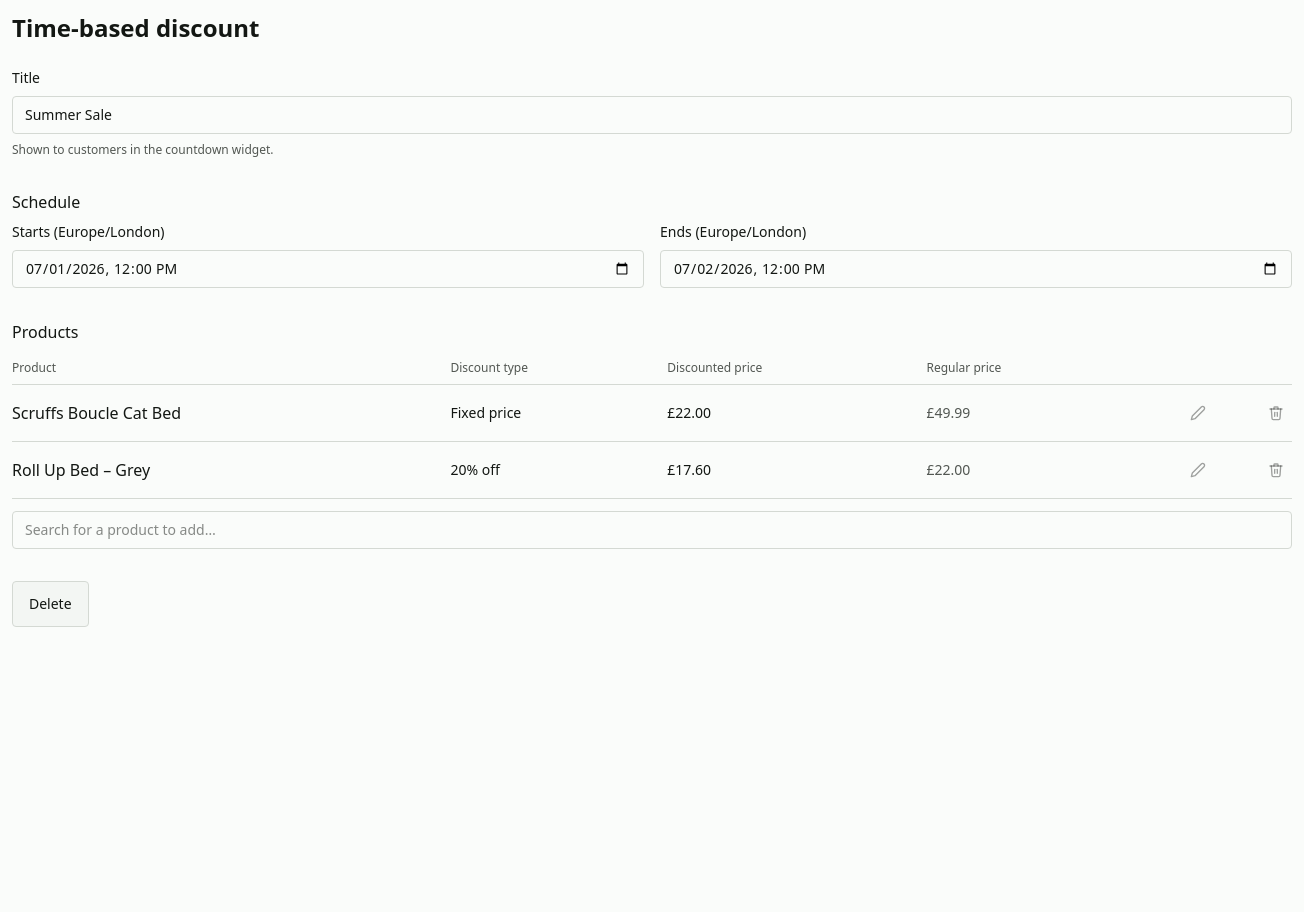
TimeDiscountEditor — title › does not save an empty title and says one is required
Clear the field labelled "Title" at (652,115), box left=12, top=96, right=1292, bottom=134
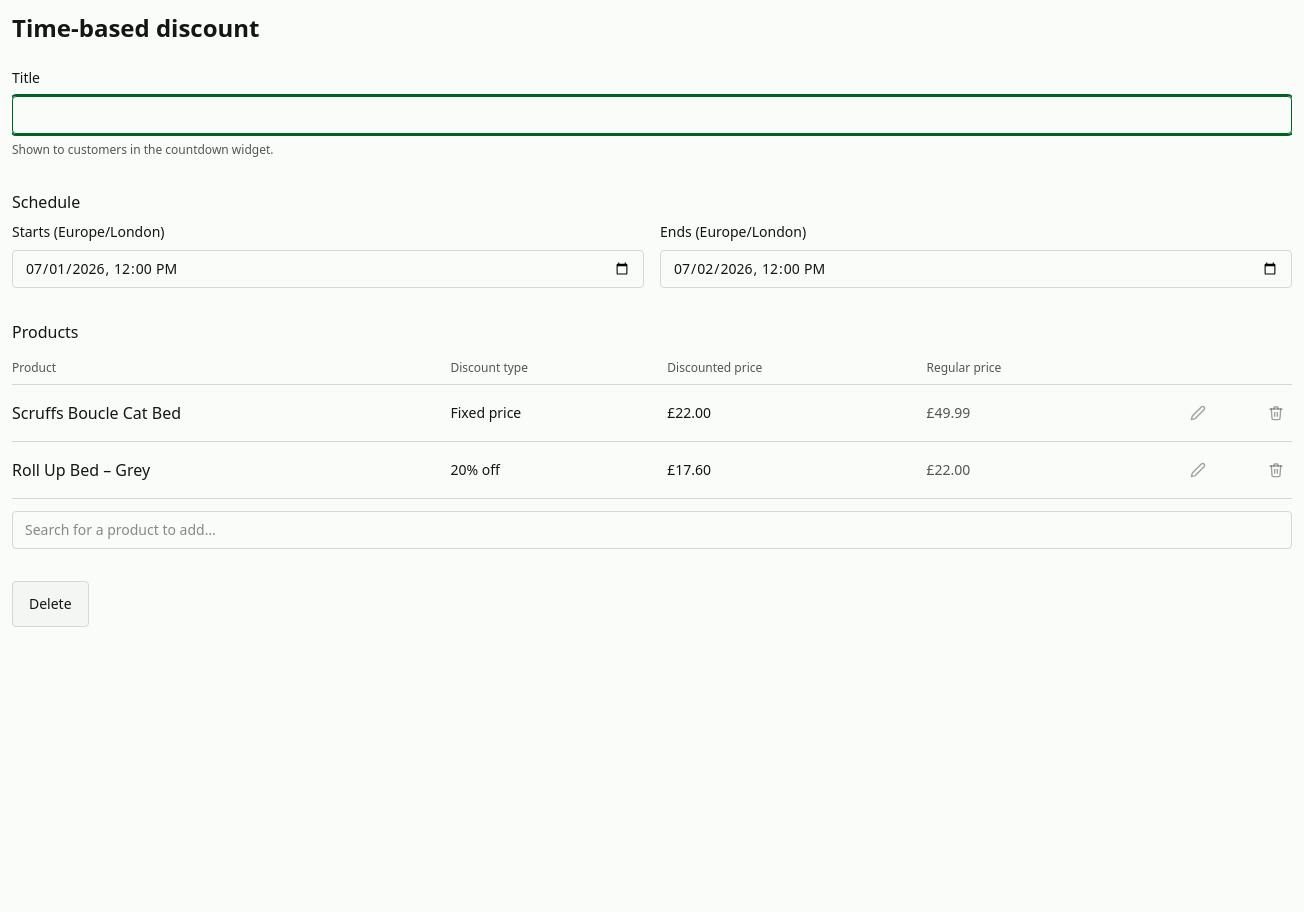
Press Tab
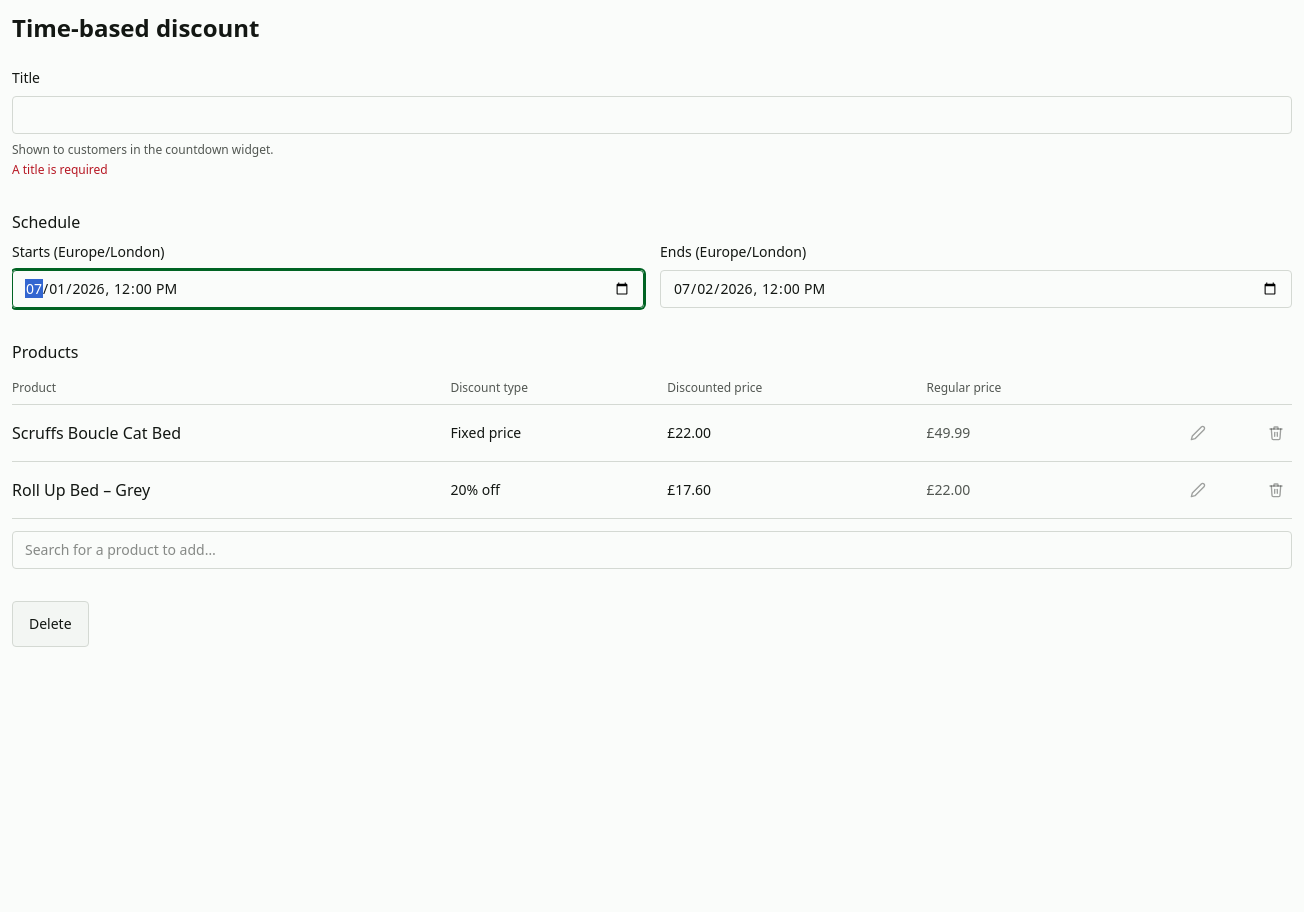
Result: the message reads "A title is required" at left=12, top=161, right=108, bottom=178
